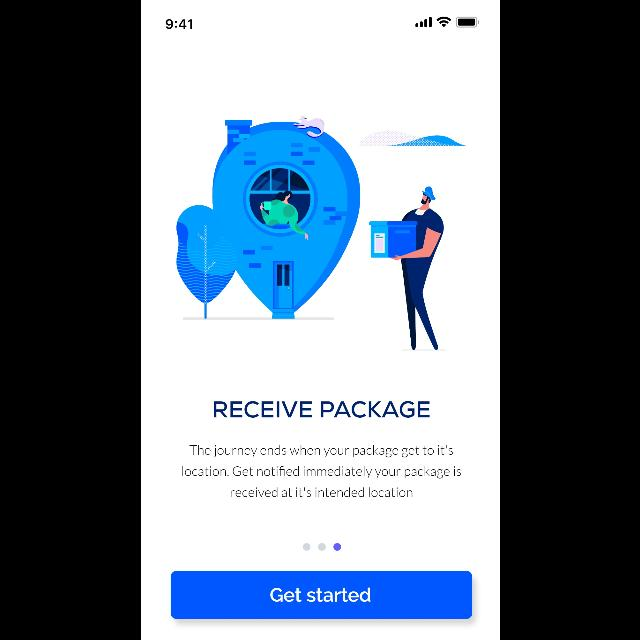image: (175, 115, 465, 352)
pageindicator: (303, 543, 342, 551)
text: (182, 445, 460, 497), (213, 400, 429, 418)
textbutton: (170, 571, 472, 619)
uppertaskbar: (165, 16, 479, 29)
